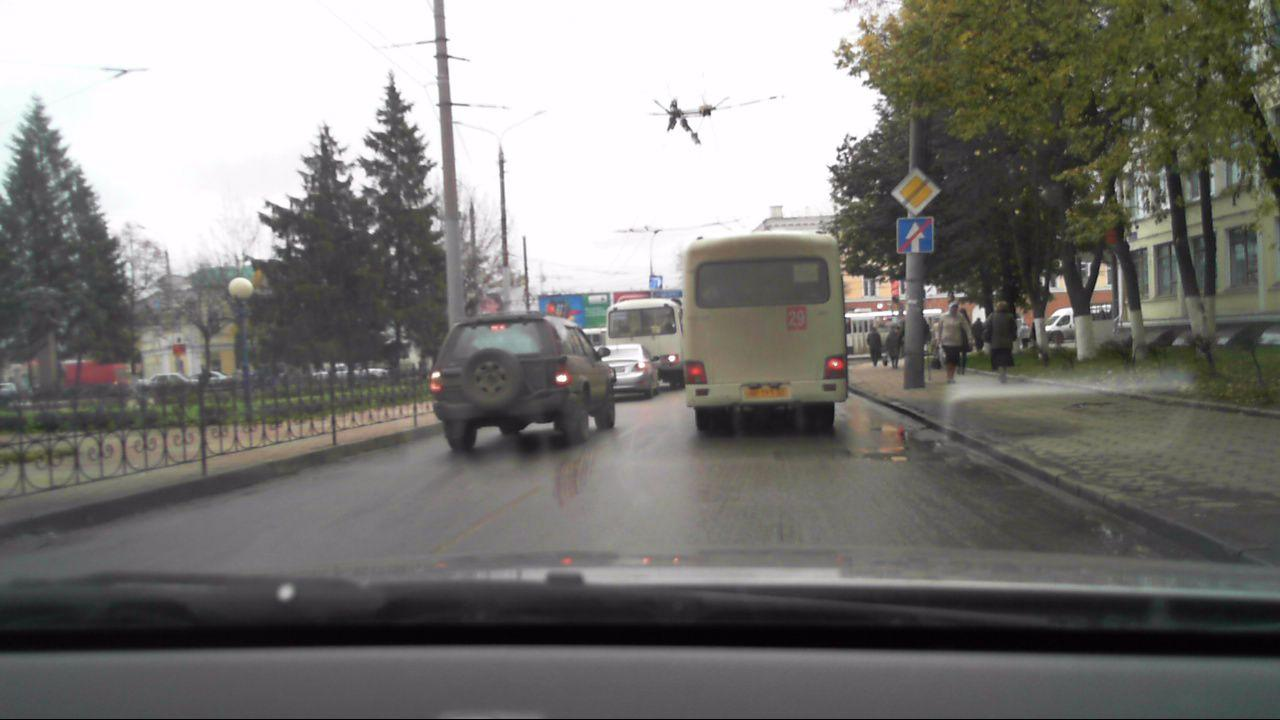2_2: (889, 171, 940, 214)
5_6: (894, 216, 936, 255)
